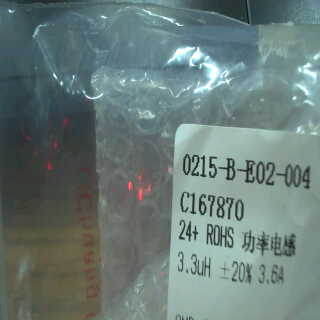3.3uH: (172, 244, 223, 286)
